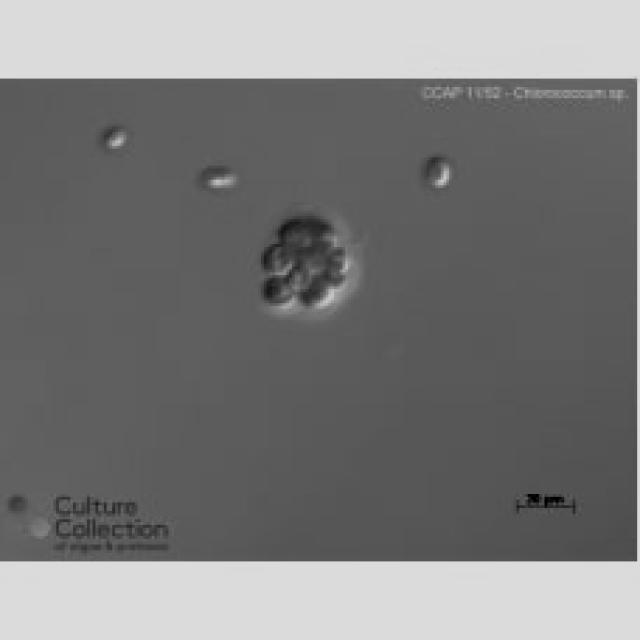Green Algae: (278, 213, 337, 244), (298, 272, 334, 309), (197, 163, 244, 191), (258, 275, 295, 306), (424, 154, 452, 188), (264, 244, 292, 275), (298, 247, 326, 272), (328, 244, 348, 275), (104, 123, 126, 149)
